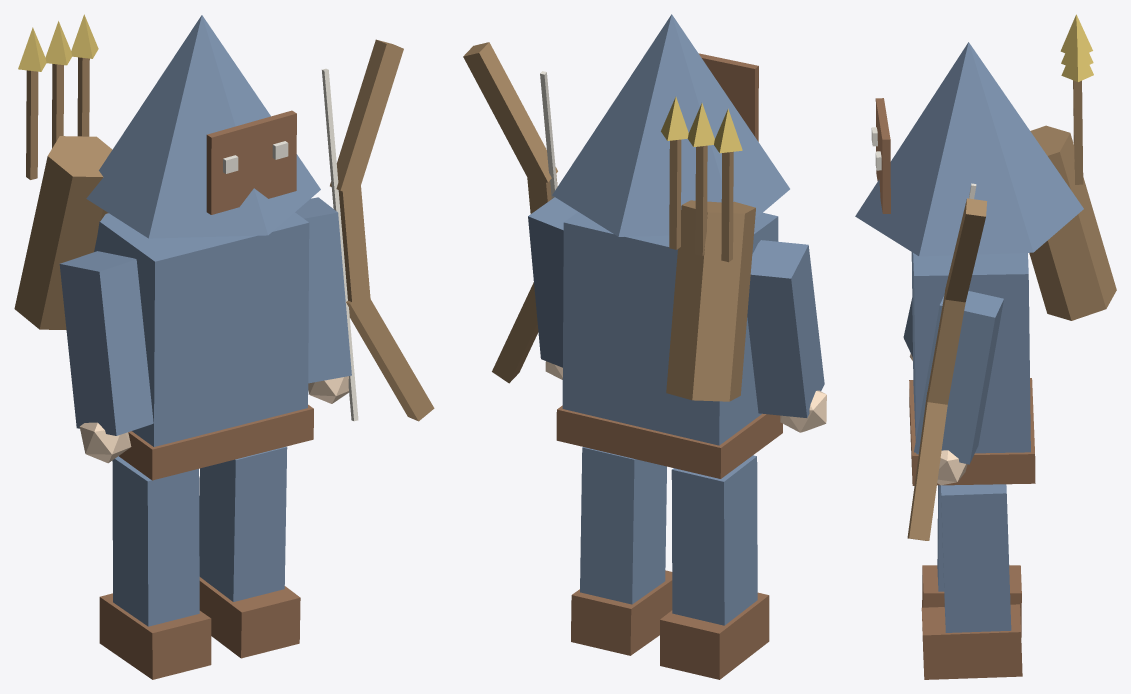
The model's file is npcpose_archer_idle_01.glb.
3 views of the same model, side by side, from view 1: azimuth 30°, elevation 25°; view 2: azimuth 150°, elevation 25°; view 3: azimuth 270°, elevation 25° (orthographic). The views are drawn at different scales.
Parts seen in each view (by area): view 1: npcpose; view 2: npcpose; view 3: npcpose.
Boxes of the visible parts, left/top/right/bottom form: npcpose: left=14, top=14, right=434, bottom=679; npcpose: left=463, top=14, right=826, bottom=679; npcpose: left=855, top=14, right=1116, bottom=679.
Bounding box in the file's own units: 0.91 × 1.62 × 0.6387.
